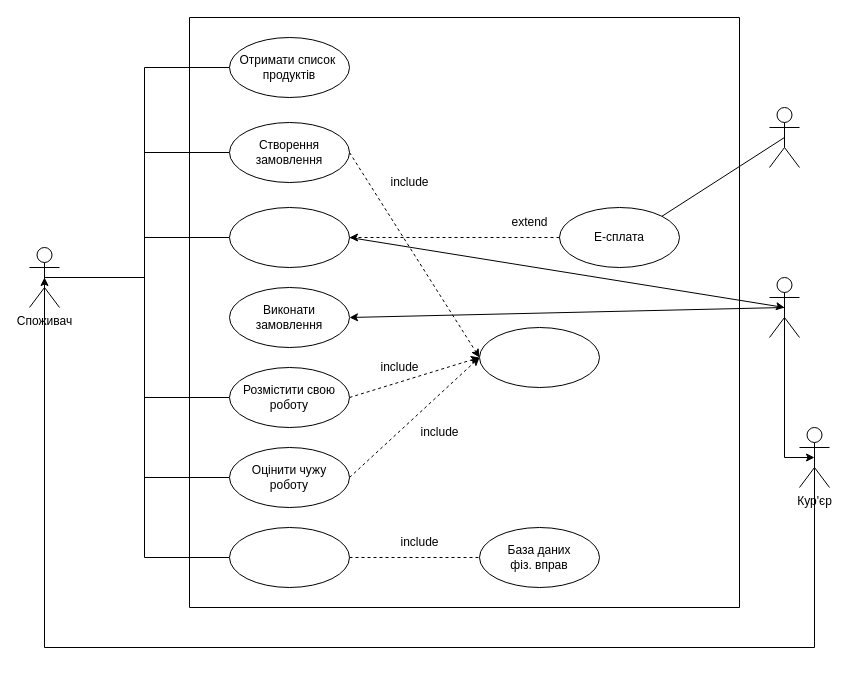
The diagram is 849 pixels wide and 673 high, and some of its shapes have lost their labels. Each missing label, with the centre of its shape:
Авторизація: (x=539, y=357)
Отримати список вправ на день: (x=289, y=557)
Робітник: (x=784, y=307)
Сервіс Е-Рау: (x=784, y=137)
Сплатити замовлення: (x=289, y=237)
